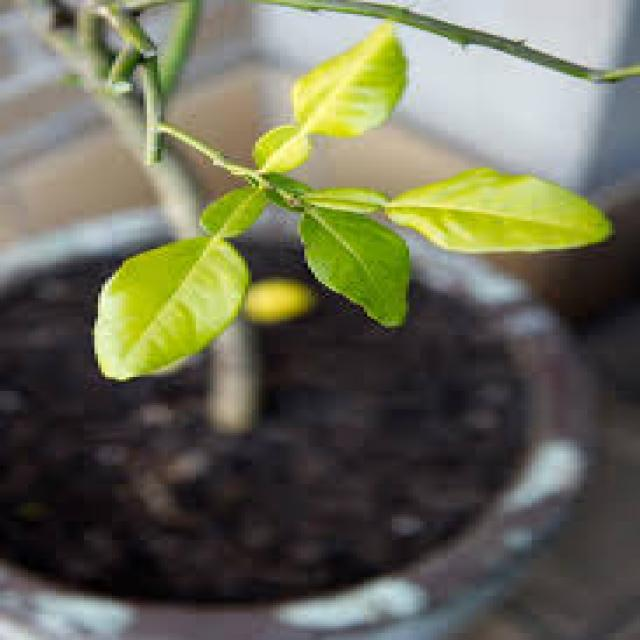virus_kuning: (84, 185, 287, 386), (394, 163, 619, 254), (282, 19, 422, 141)
